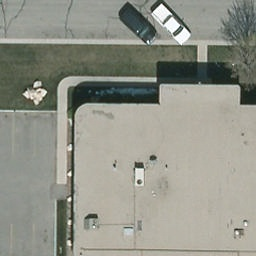car: (117, 5, 160, 47)
pickup: (151, 4, 194, 46)
